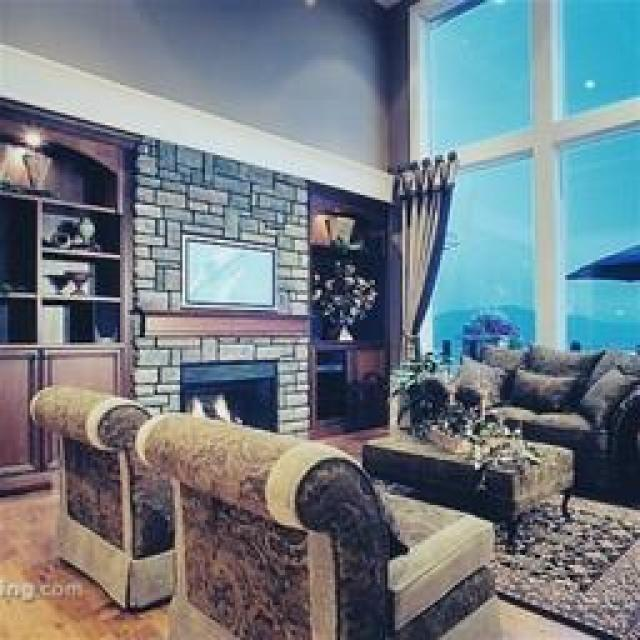cupboard: (0, 87, 142, 500)
curtains: (388, 150, 458, 368)
rugs: (370, 475, 638, 637)
sofa: (390, 340, 638, 502)
